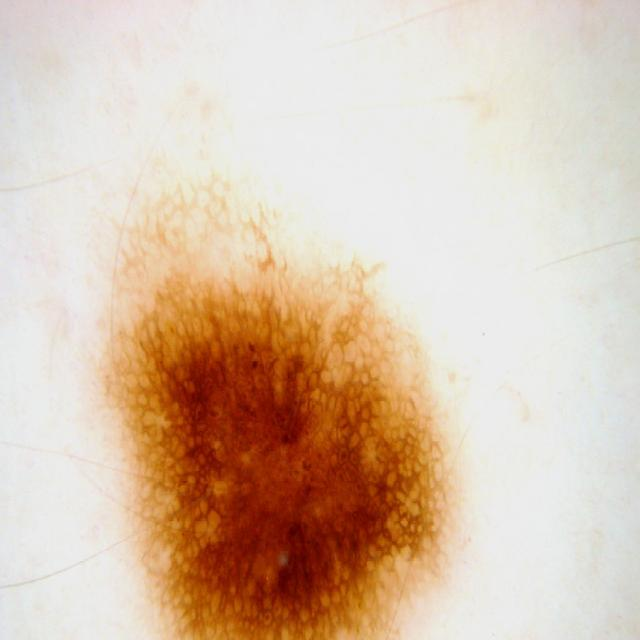Melanoma: (88, 128, 487, 640)
